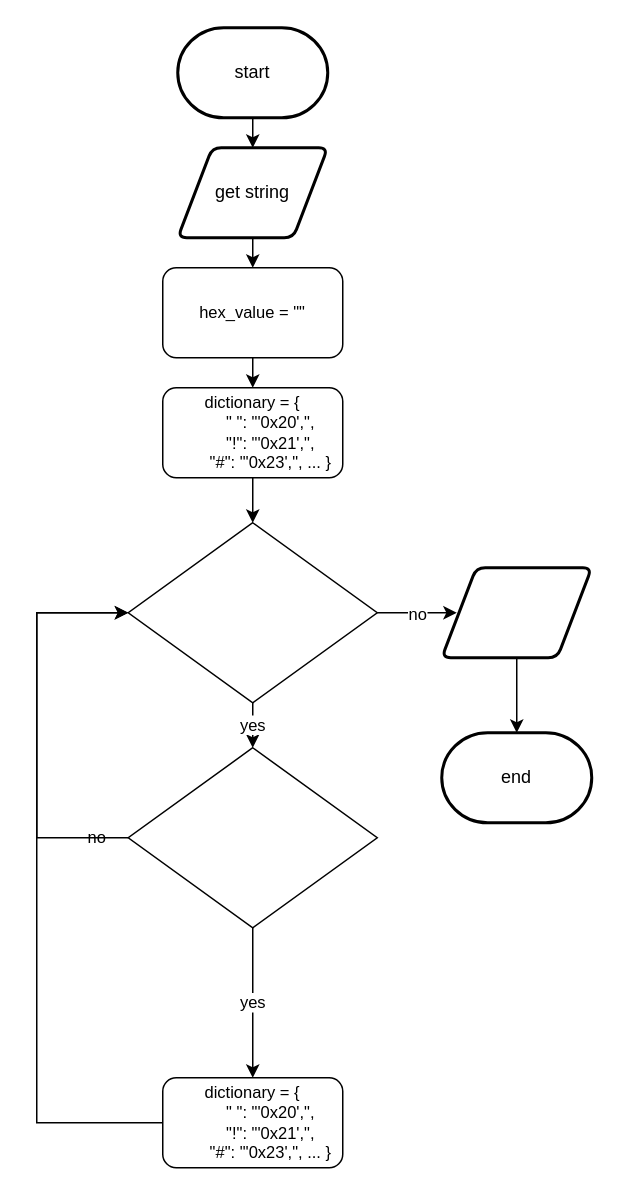
Some shapes in this 620 by 1194 pixel diagram are drawn without their labels. Each missing label, with the centre of its shape:
"for word in string" belongs at [252,612].
"if character in dictionary.keys()" belongs at [252,837].
"print string" belongs at [516,612].
